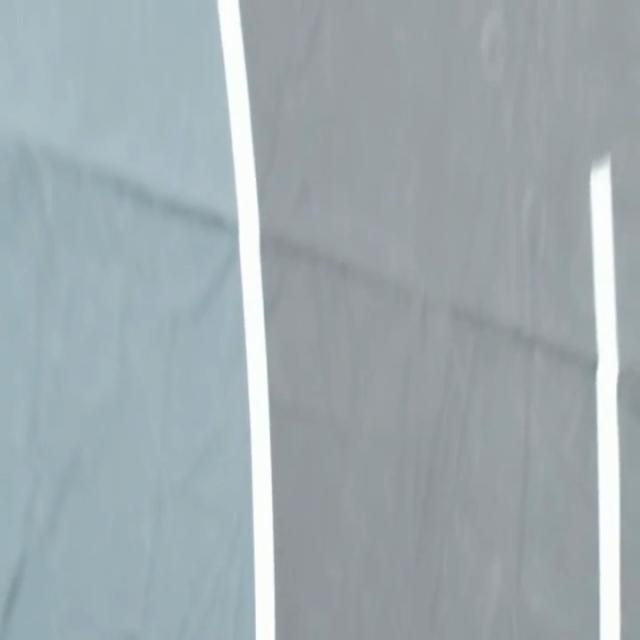center: (590, 156, 620, 639)
left: (217, 0, 275, 639)
